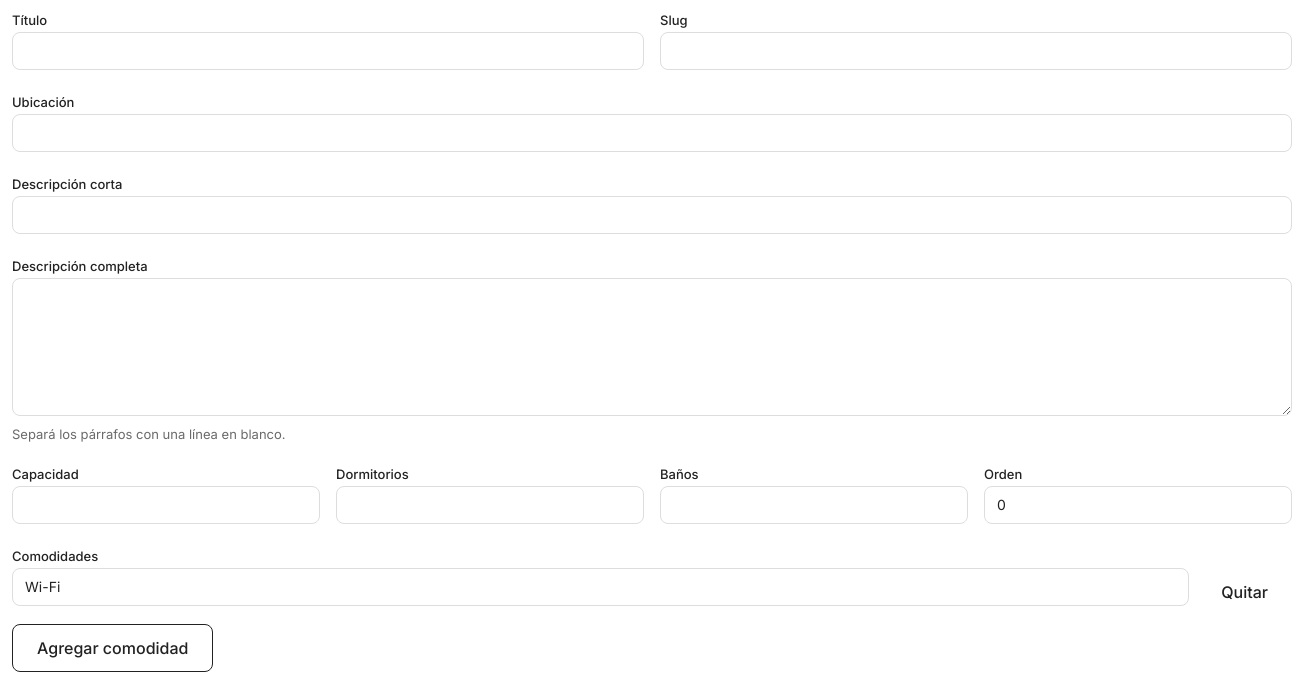
Test: PropertyForm › adds and removes ordered amenity rows
Expected: the field named "comodidades 1" holds "Wi-Fi", [12,568,1189,606]
Click the button "Agregar comodidad" at (113, 648), box [12,624,213,672]
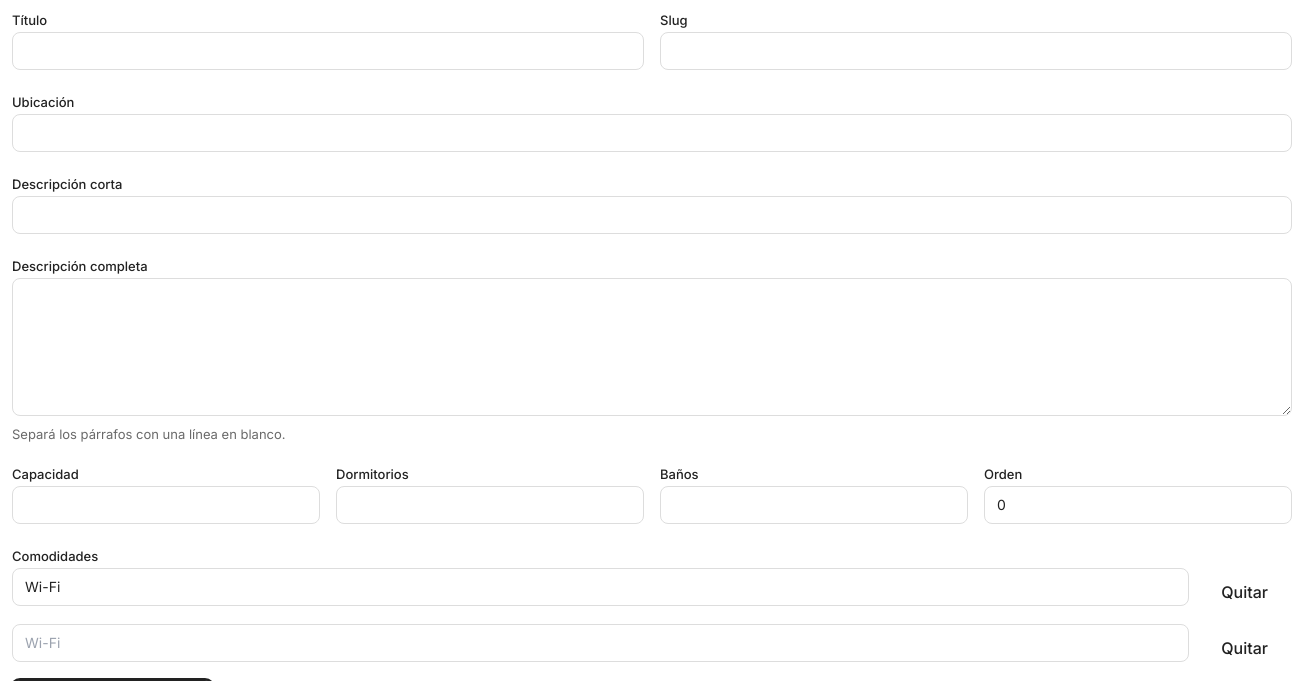
Type "Parrilla" into the field named "comodidades 2" at (601, 643), box [12,624,1189,662]
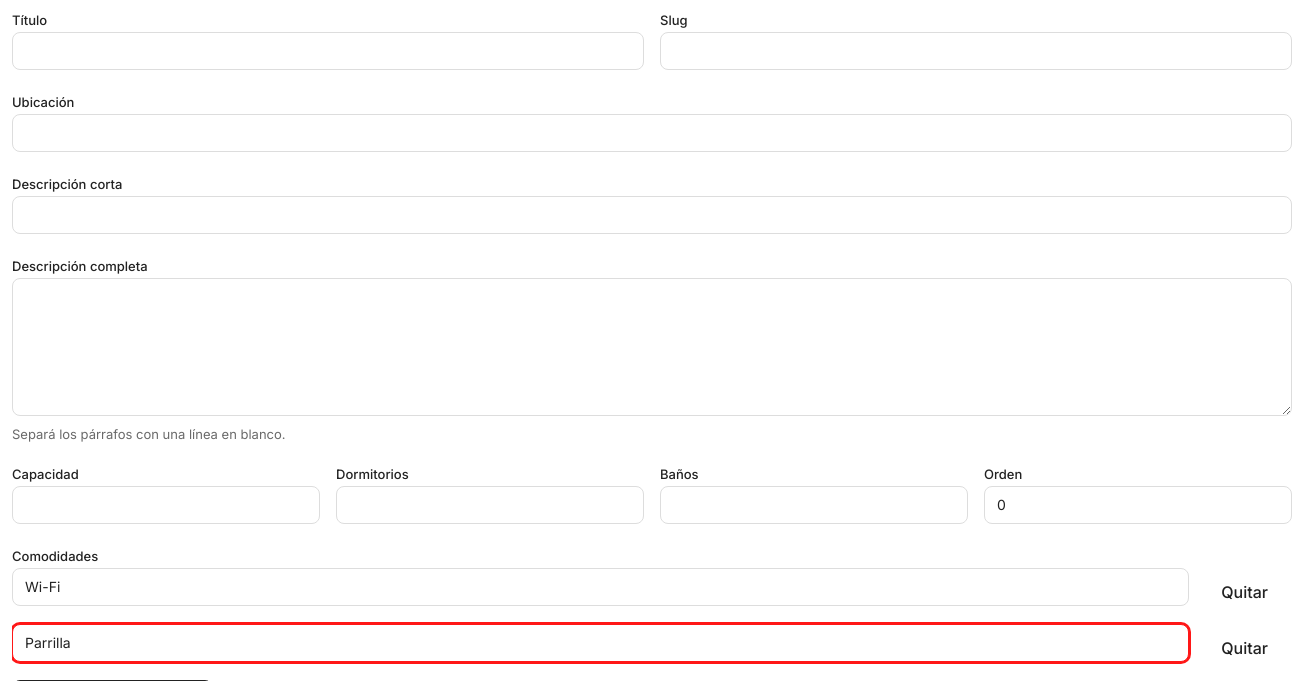
Click the button with aria-label "quitar fila 1 de comodidades" at (1245, 592), box [1197,568,1292,616]
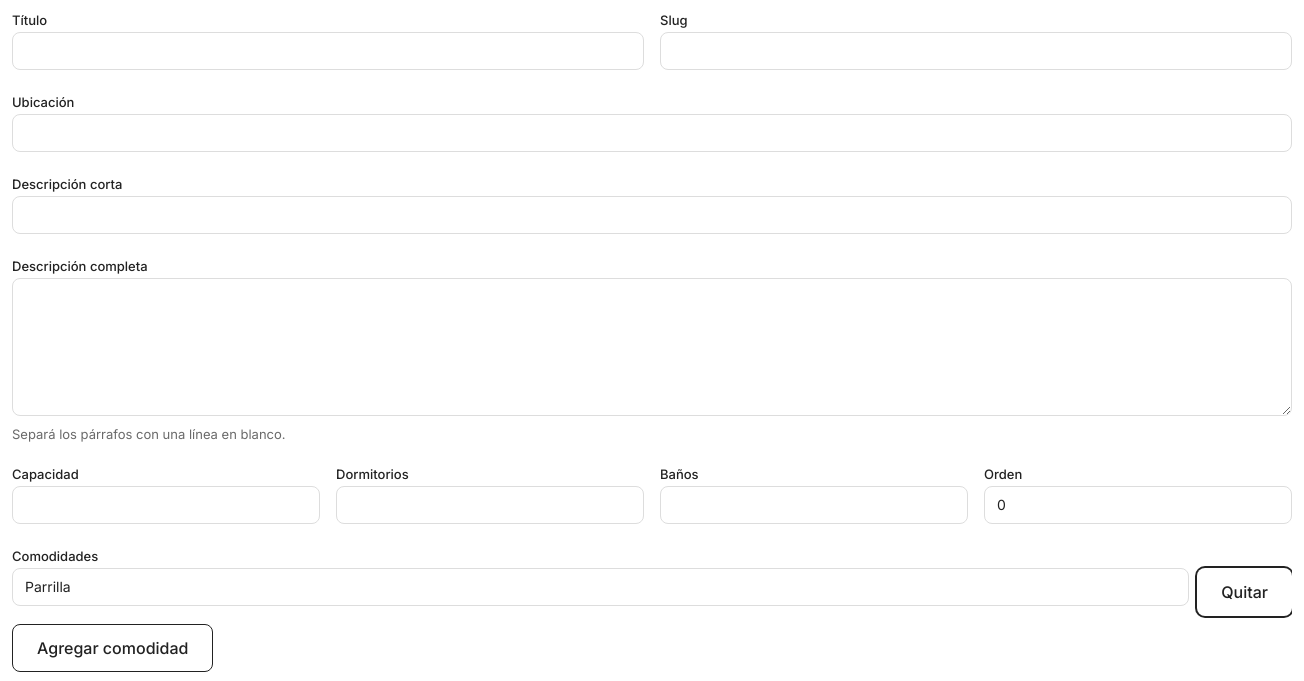
Expected: the field named "comodidades 1" holds "Parrilla", [12,568,1189,606]
